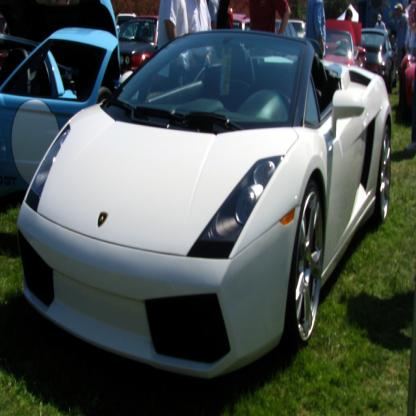Car: (1, 2, 399, 380)
